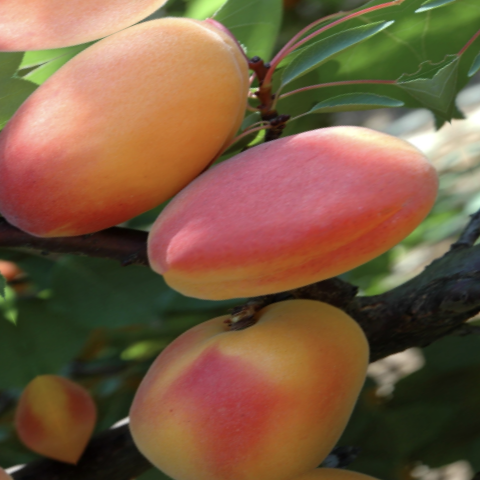mango: (113, 68, 465, 354), (0, 0, 305, 278), (75, 240, 423, 480)
